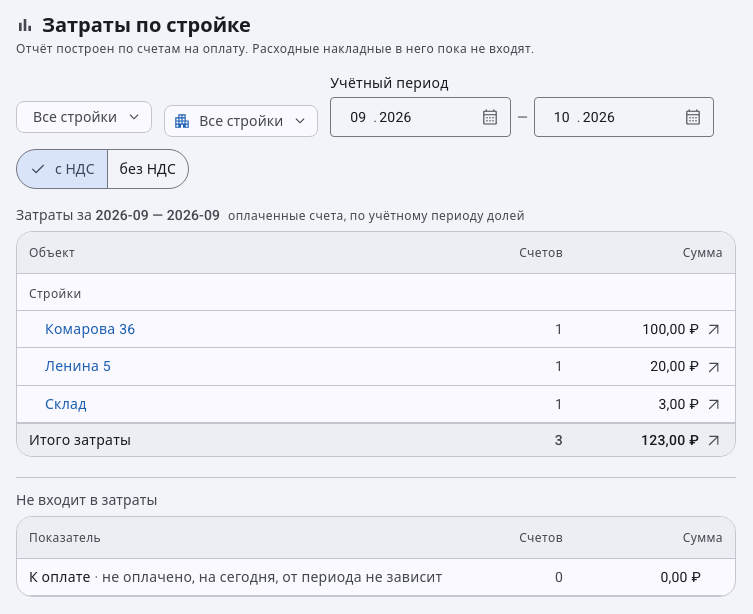
Test: учётный период › «по» раньше «с» на сервер не уходит; уход из поля поправляет «с»
Expected: the row "Итого затраты 3 123,00 ₽" is shown, [17,423,735,456]
Replace the text in the 2nd field named "месяц" with "08" at point(562, 117), box [547,107,577,127]
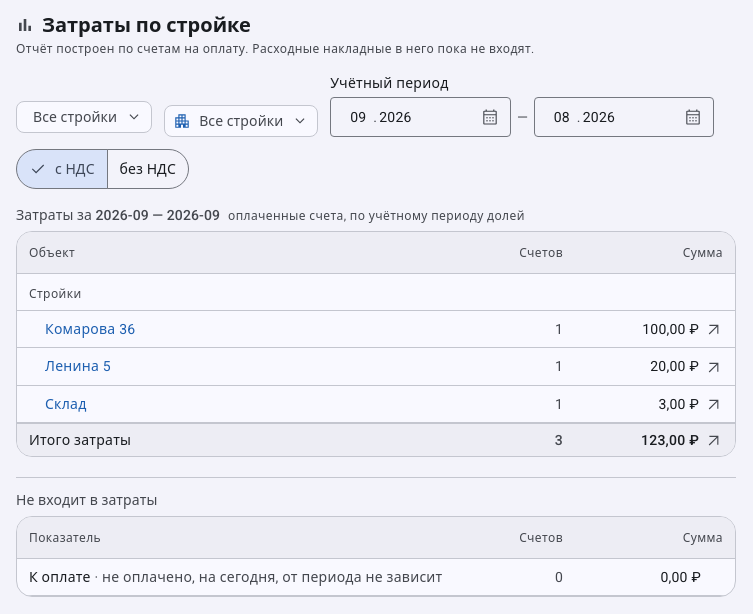
Leave the 2nd field named "месяц", box [547,107,577,127]
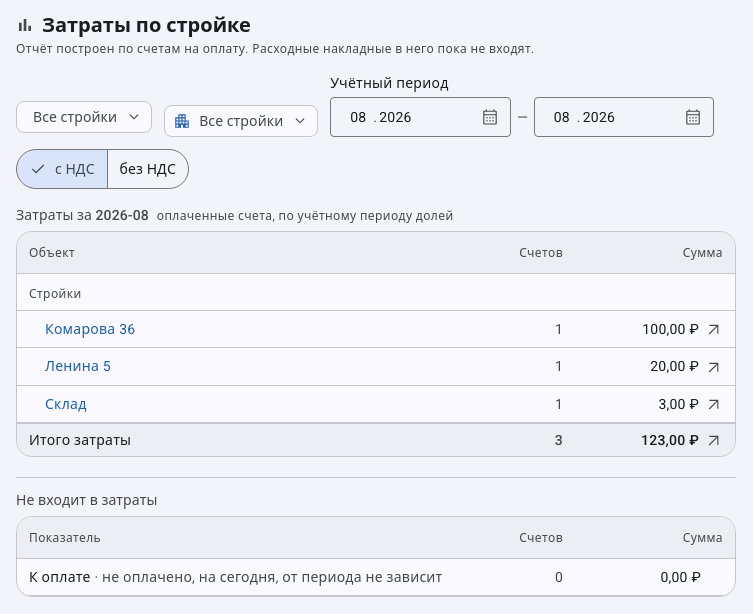
Result: the 1st field named "месяц" holds "08" at [343,107,373,127]
